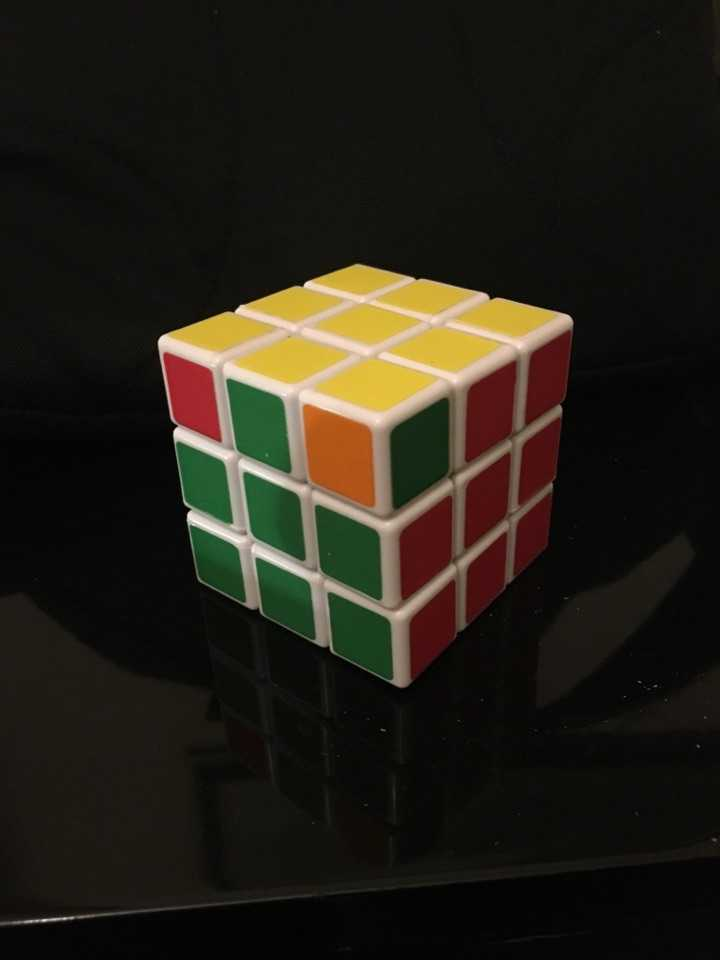cube: (151, 253, 582, 692)
